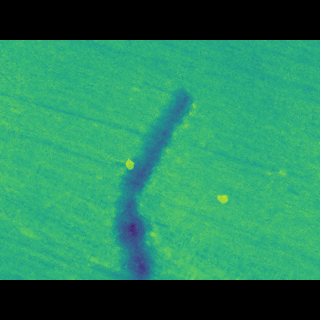Loch: (82, 105, 203, 250)
